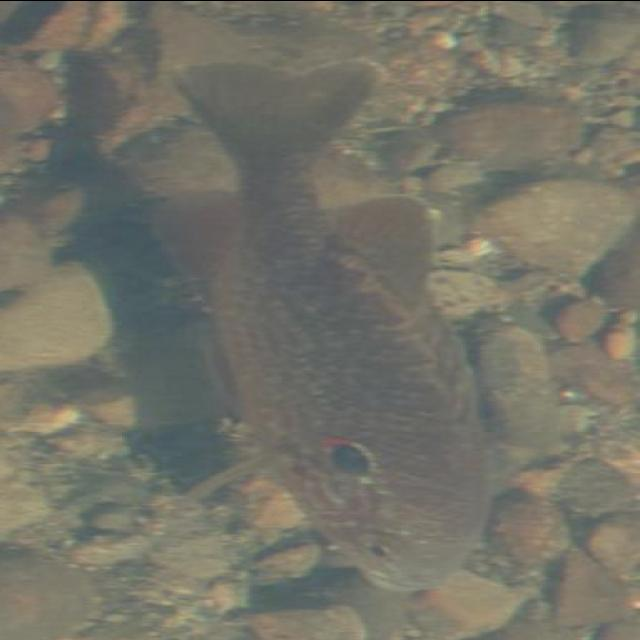Gunes Levregi: (157, 49, 492, 596)
